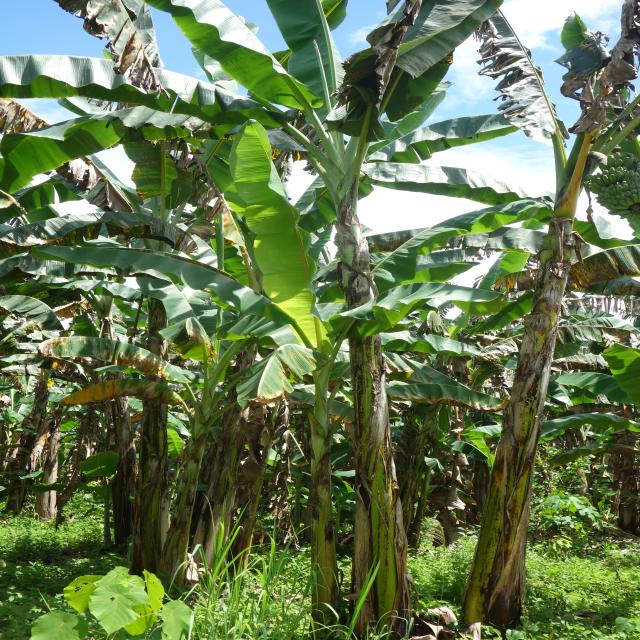Banana-plant: (437, 158, 618, 627), (325, 171, 409, 640), (106, 416, 239, 588), (282, 334, 352, 618)
